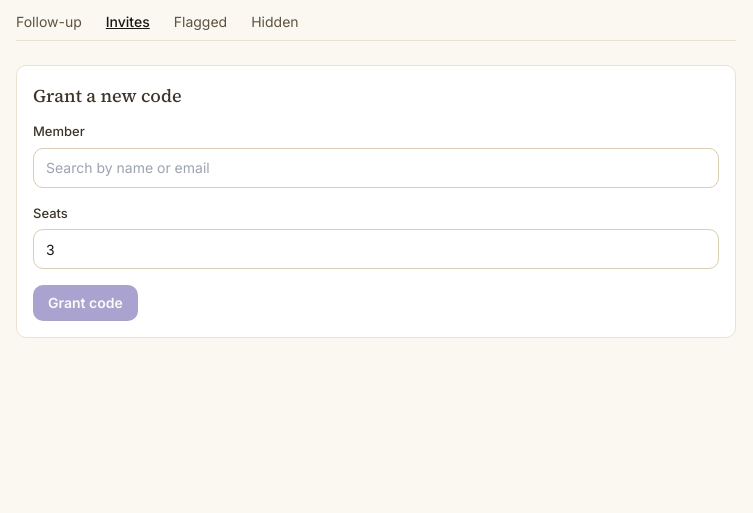
Test case: ModInvitesPage › grants a new code and shows a success toast
In the field named "member": (376, 168) 33,148 -> 719,188, type "b"
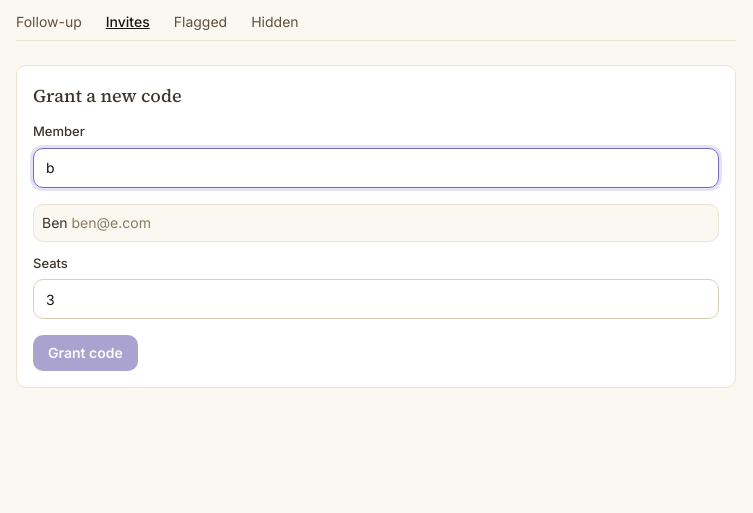
Now the button "Ben ben@e.com" is shown
Click the button "Ben ben@e.com": (111, 222) 34,204 -> 718,240
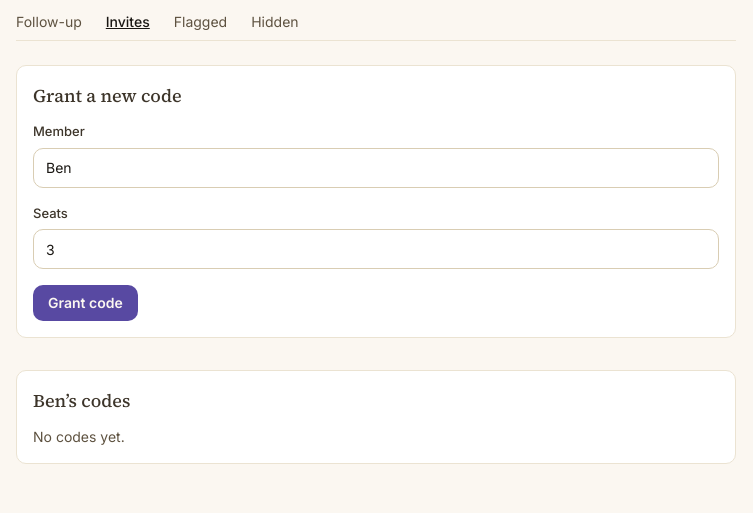
Replace the text in the number field named "seats" with "5": (376, 249) 33,229 -> 719,269
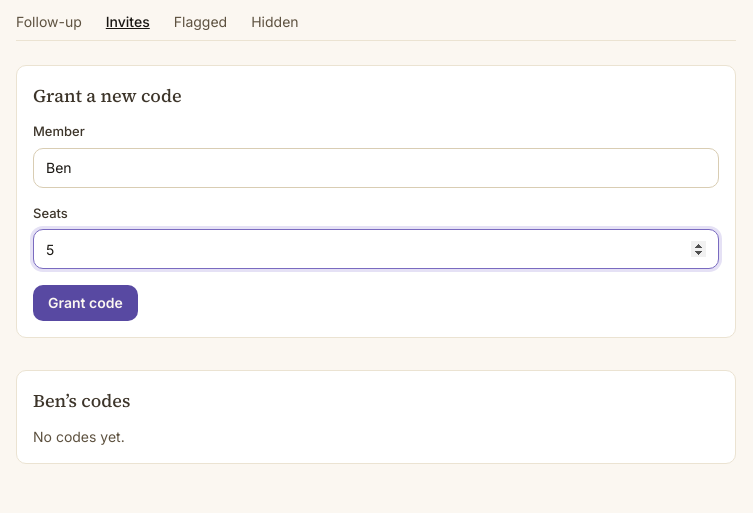
Click the button "Grant code": (85, 303) 33,285 -> 138,321
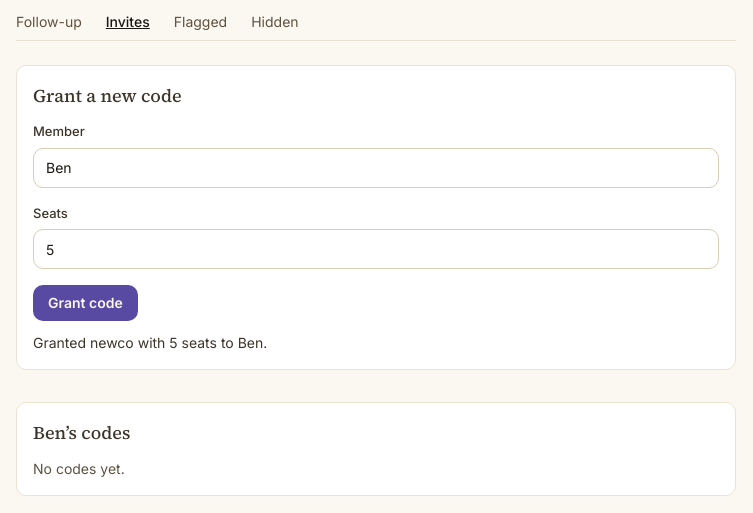
Now the text "Granted newco with 5 seats to Ben." is shown, box 33,334 -> 267,351
